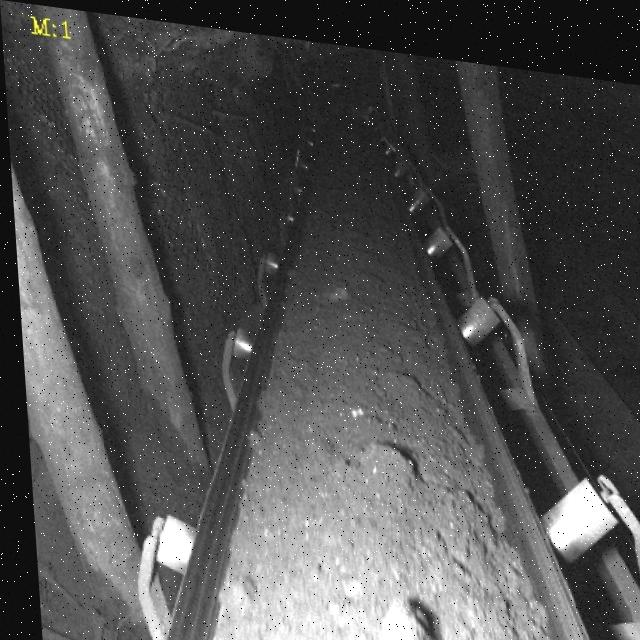large_sized_coal: (361, 583, 496, 640)
